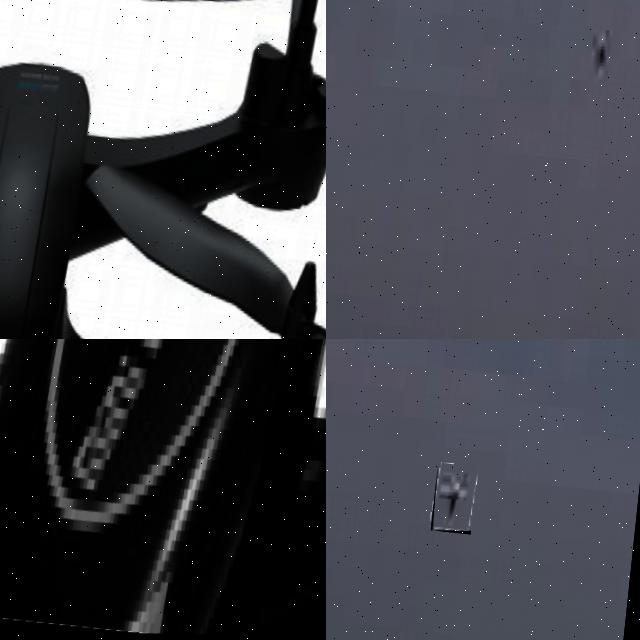drone: (0, 0, 326, 339), (0, 339, 326, 640), (430, 462, 478, 534)
